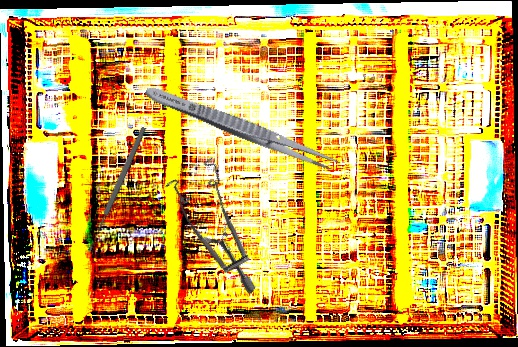Dressing Forceps: (142, 81, 343, 176)
Speculum: (142, 144, 303, 296)
Surgical Spoon: (85, 125, 148, 253)
